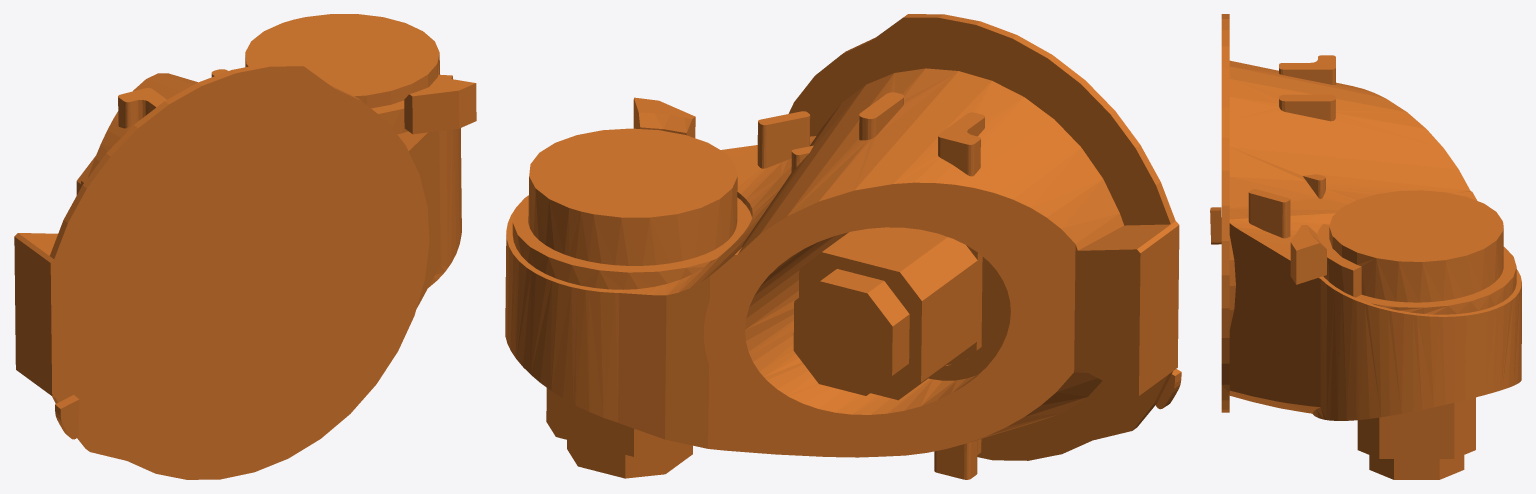
3 renders of one model, left to right at view 1: azimuth 30°, elevation 25°; view 2: azimuth 150°, elevation 25°; view 3: azimuth 270°, elevation 25°, orthographic. The views are drawn at different scales.
Parts seen in each view (by area): view 1: link_1; view 2: link_1; view 3: link_1.
Boxes of the visible parts, <box> form: link_1: <box>14,14,476,479</box>; link_1: <box>505,14,1181,479</box>; link_1: <box>1210,14,1521,479</box>.
Bounding box in the file's own units: 0.8452 × 0.5058 × 0.6462.
